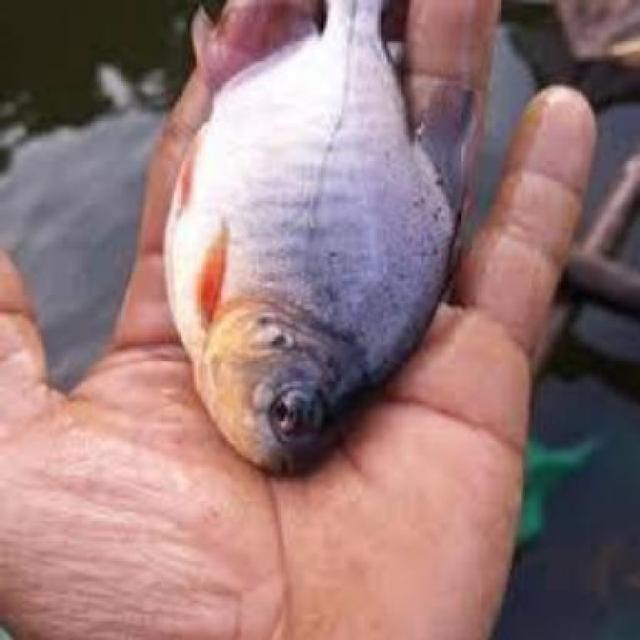ikan-pacu: (165, 0, 462, 477)
